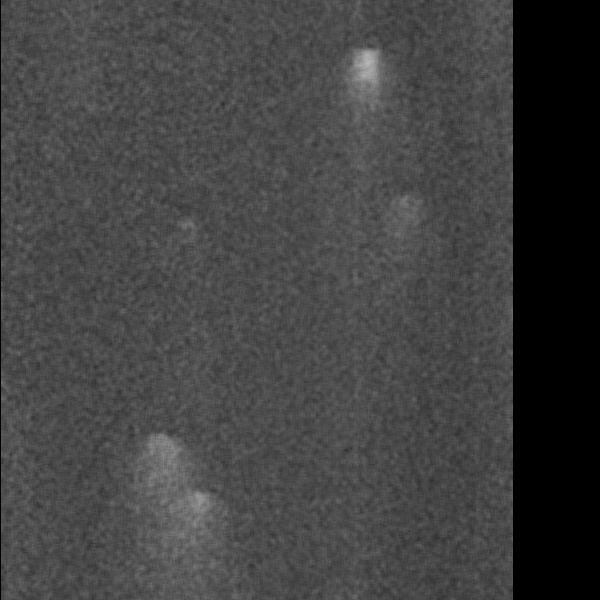spark: (253, 418, 314, 477), (311, 486, 350, 536)
